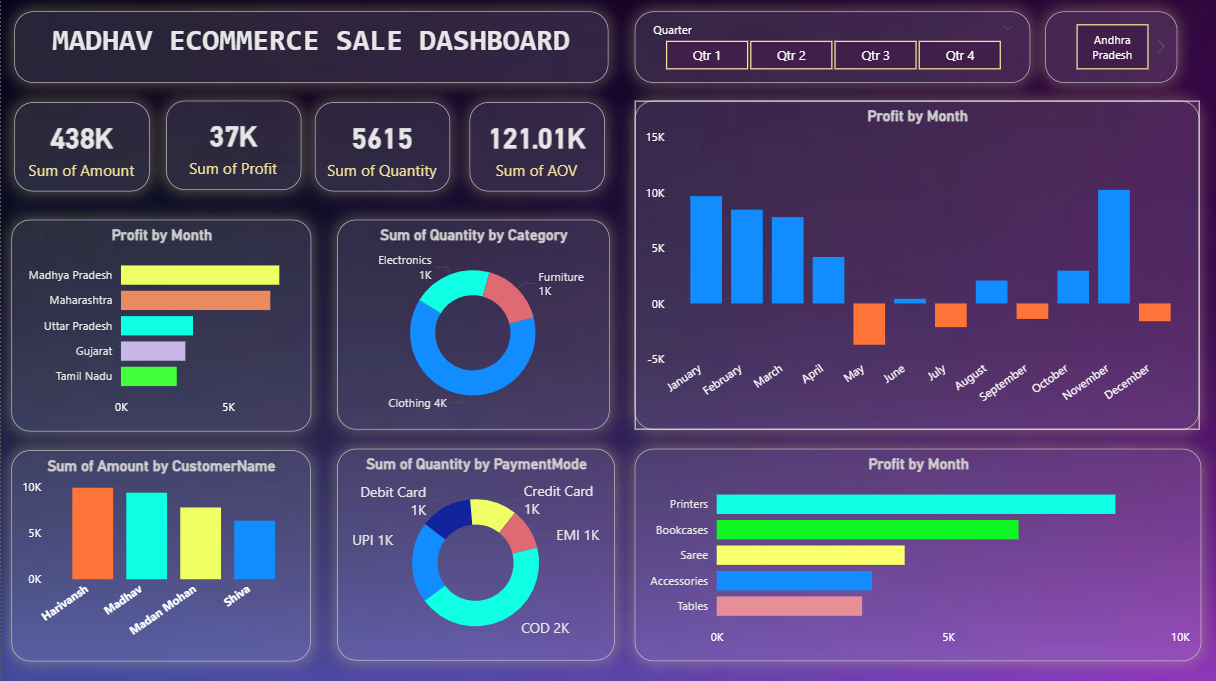

What the dashboard file says about the page in this screenshot:
{"tool":"powerbi","page":{"name":"Page 1","canvas":[1280,720],"ordinal":0},"visuals":[{"type":"textbox","box":[13.5,13.5,625.8,75.1],"z":0},{"type":"columnChart","title":"Profit by Month","fields":{"Category":["Orders.Order Date.Variation.Date Hierarchy.Month"],"Y":["Sum(Details.Profit)"]},"box":[668.2,107.8,595,346.6],"z":1000},{"type":"barChart","title":"Profit by Month","fields":{"Category":["Details.Sub-Category"],"Y":["Sum(Details.Profit)"]},"box":[667.6,474.9,597.1,224.1],"z":2000},{"type":"donutChart","fields":{"Category":["Details.Category"],"Y":["Sum(Details.Quantity)"]},"box":[354.3,233,286.9,221.4],"z":3000},{"type":"donutChart","fields":{"Y":["Sum(Details.Quantity)"],"Category":["Details.PaymentMode"]},"box":[354.3,475.6,292.7,223.4],"z":4000},{"type":"card","fields":{"Values":["Sum(Details.Amount)"]},"box":[13.5,109.8,142.5,94.4],"z":5000},{"type":"card","fields":{"Values":["Sum(Details.Profit)"]},"box":[173.3,107.8,142.5,94.4],"z":6000},{"type":"card","fields":{"Values":["Sum(Details.Quantity)"]},"box":[331.2,109.8,142.5,94.4],"z":7000},{"type":"card","fields":{"Values":["Sum(Details.AOV)"]},"box":[492.9,109.8,142.5,94.4],"z":8000},{"type":"barChart","title":"Profit by Month","fields":{"Category":["Orders.State"],"Y":["Sum(Details.Profit)"]},"box":[11.6,233,315.8,223.4],"z":9000},{"type":"columnChart","fields":{"Category":["Orders.CustomerName"],"Y":["Sum(Details.Amount)"]},"box":[11,476.4,315,222.5],"z":10000},{"type":"slicer","fields":{"Values":["Orders.Order Date.Variation.Date Hierarchy.Quarter"]},"box":[667.6,14.1,416.9,75.2],"z":11000},{"type":"slicer","fields":{"Values":["Orders.State"]},"box":[1100.2,14.1,139.5,75.2],"z":12000}]}

Visuals, with their boxes in screenshot pixels (x1, y1, x2, y2), scaled from the page's 1280x720 canvas onto the 1216x681 screenshot:
textbox: 13 13 607 84
"Profit by Month" columnChart: 635 102 1200 430
"Profit by Month" barChart: 634 449 1201 661
donutChart - Details.Category x Sum(Details.Quantity): 337 220 609 430
donutChart - Sum(Details.Quantity) x Details.PaymentMode: 337 450 615 661
card - Sum(Details.Amount): 13 104 148 193
card - Sum(Details.Profit): 165 102 300 191
card - Sum(Details.Quantity): 315 104 450 193
card - Sum(Details.AOV): 468 104 604 193
"Profit by Month" barChart: 11 220 311 432
columnChart - Orders.CustomerName x Sum(Details.Amount): 10 451 310 661
slicer - Orders.Order Date.Variation.Date Hierarchy.Quarter: 634 13 1030 84
slicer - Orders.State: 1045 13 1178 84
